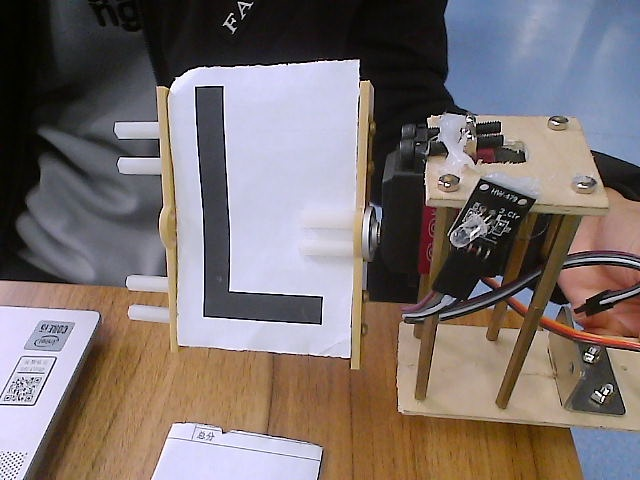L: (85, 38, 430, 396)
